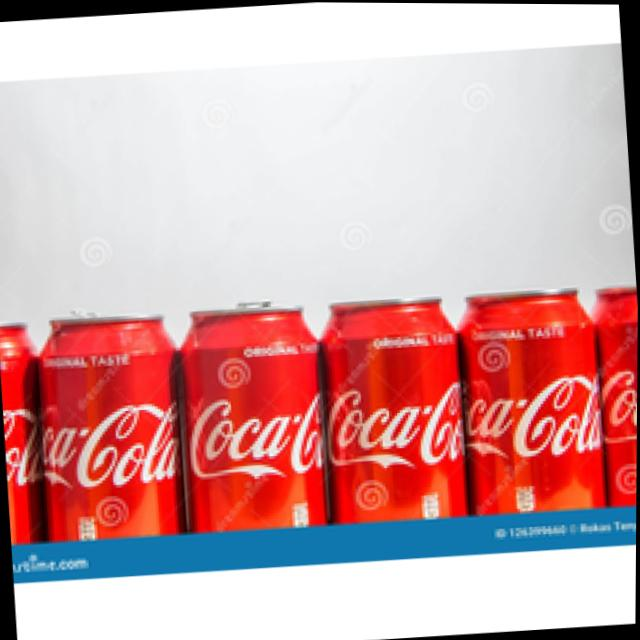aluminum_soda_cans: (172, 297, 333, 535), (33, 302, 190, 542), (457, 282, 616, 518), (322, 291, 473, 523), (0, 312, 47, 534), (602, 282, 638, 501)
